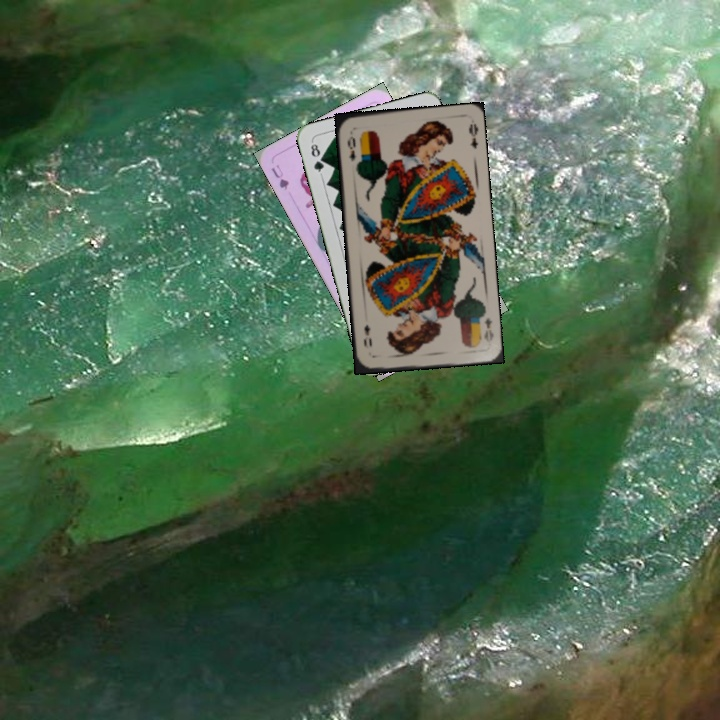EO: (343, 128, 359, 163), (480, 313, 496, 345)
G8: (307, 138, 327, 178)
GU: (267, 161, 292, 192)
